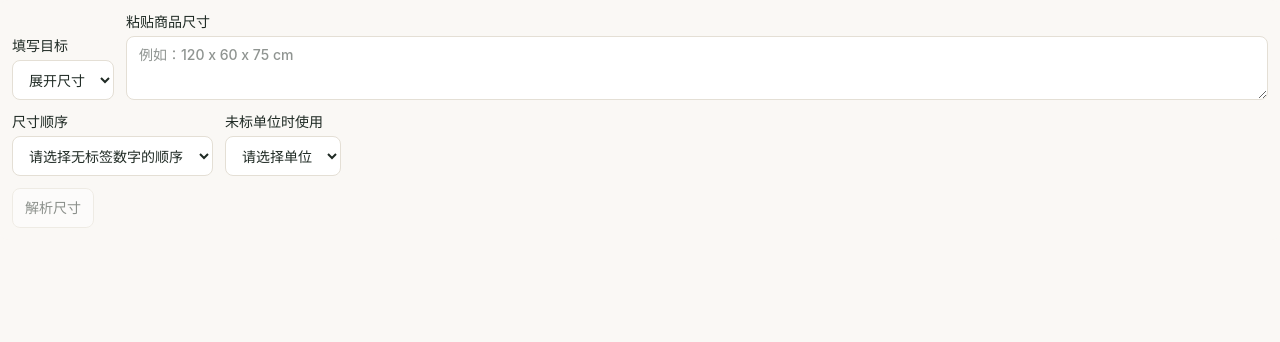
Scenario: ProductDimensionsAssist confirmation boundary › never applies the positive subset of an invalid dimension triplet
The width and height of the screenshot is (1280, 342).
Select "长 × 宽 × 高（L×W×H）" in the dropdown labelled "尺寸顺序" at (112, 156), box [12,136,213,176]
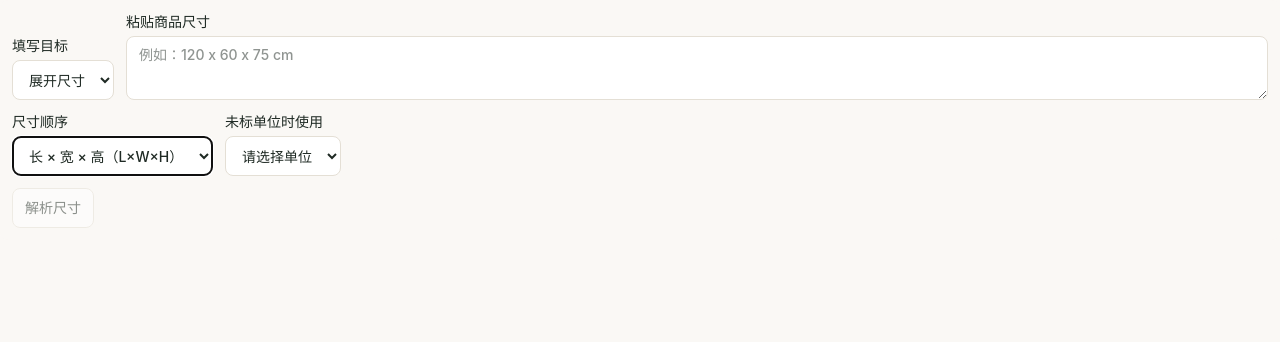
Type "0x60x75cm" into the text box labelled "粘贴商品尺寸" at (697, 68), box [126,36,1268,100]
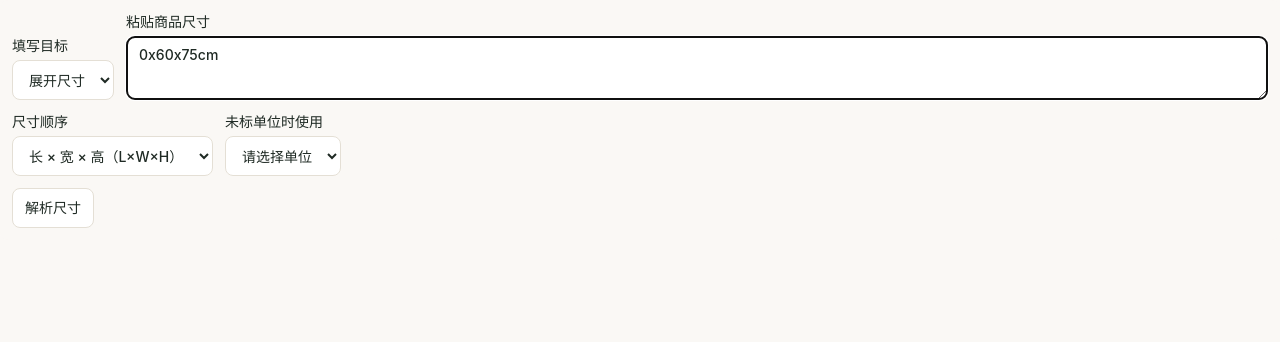
Click the button "解析尺寸" at (53, 208), box [12,188,94,228]
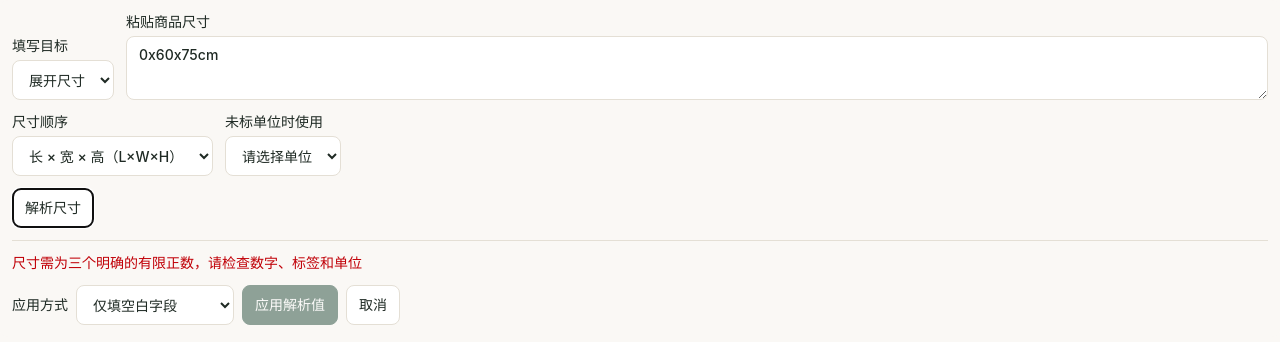
Expected: the button "应用解析值" is disabled, [242,285,338,325]
